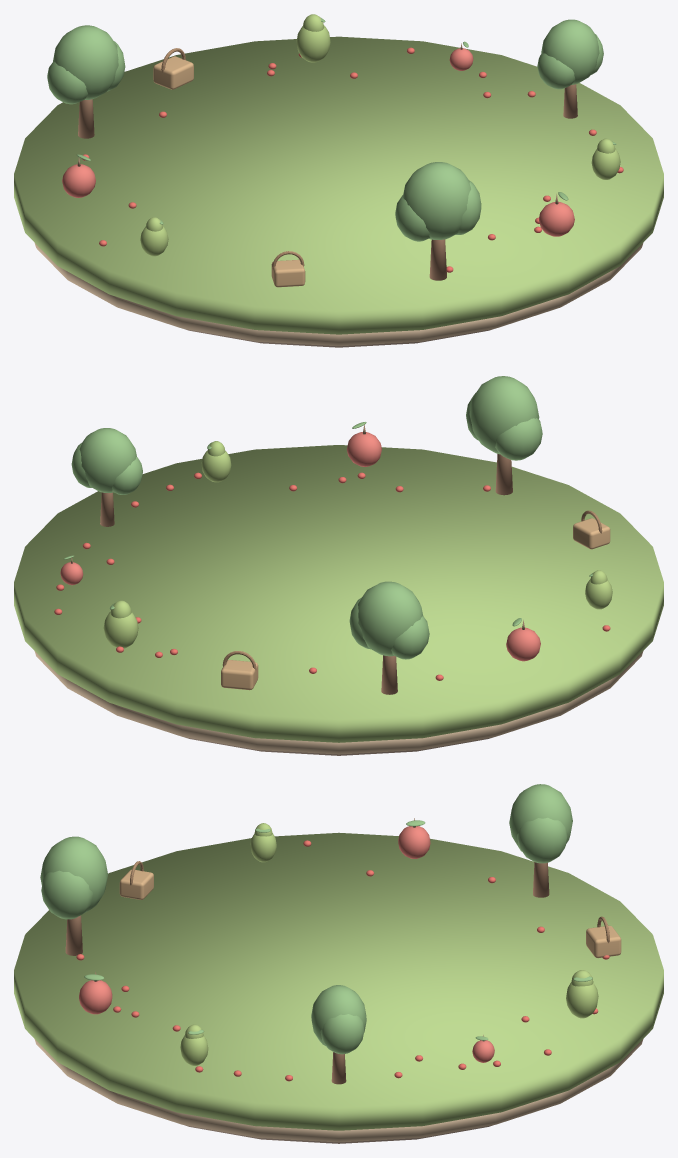
The model's file is world.glb.
3 renders of one model, top to bottom at view 1: azimuth 30°, elevation 25°; view 2: azimuth 150°, elevation 25°; view 3: azimuth 270°, elevation 25°, orthographic.
Visible parts, largest first — view 1: Cone, Cone.001, tree.003, tree.002, tree.001, pear.001, basket.001, apple.003, basket.002, apple.002, pear.003, pear.002 (+1 smaller); view 2: Cone, Cone.001, tree.003, tree.002, tree.001, pear.001, basket.001, apple.003, basket.002, apple.002, pear.003, pear.002 (+1 smaller); view 3: Cone, Cone.001, tree.003, tree.002, tree.001, pear.001, basket.001, apple.003, apple.002, basket.002, pear.003, pear.002 (+1 smaller).
Boxes of the visible parts, left/top/right/bottom form: Cone: left=14, top=36, right=663, bottom=334; Cone.001: left=34, top=242, right=643, bottom=346; tree.003: left=395, top=162, right=481, bottom=280; tree.002: left=47, top=25, right=125, bottom=138; tree.001: left=537, top=19, right=603, bottom=118; pear.001: left=296, top=14, right=330, bottom=62; basket.001: left=153, top=48, right=193, bottom=89; apple.003: left=539, top=192, right=574, bottom=236; basket.002: left=271, top=251, right=305, bottom=287; apple.002: left=62, top=154, right=95, bottom=197; pear.003: left=591, top=138, right=620, bottom=179; pear.002: left=140, top=217, right=168, bottom=256; Cone: left=14, top=445, right=663, bottom=742; Cone.001: left=34, top=651, right=643, bottom=754; tree.003: left=466, top=376, right=542, bottom=495; tree.002: left=349, top=581, right=429, bottom=694; tree.001: left=71, top=428, right=142, bottom=526; pear.001: left=103, top=600, right=138, bottom=648; basket.001: left=221, top=651, right=258, bottom=690; apple.003: left=346, top=422, right=381, bottom=466; basket.002: left=573, top=510, right=610, bottom=549; apple.002: left=506, top=618, right=540, bottom=661; pear.003: left=201, top=441, right=231, bottom=482; pear.002: left=585, top=570, right=612, bottom=609; Cone: left=14, top=832, right=663, bottom=1130; Cone.001: left=34, top=1039, right=643, bottom=1142; tree.003: left=40, top=836, right=107, bottom=955; tree.002: left=509, top=784, right=572, bottom=897; tree.001: left=311, top=985, right=366, bottom=1084; pear.001: left=566, top=970, right=598, bottom=1018; basket.001: left=586, top=916, right=621, bottom=958; apple.003: left=79, top=972, right=112, bottom=1014; apple.002: left=398, top=818, right=430, bottom=858; basket.002: left=119, top=861, right=153, bottom=899; pear.003: left=180, top=1024, right=208, bottom=1065; pear.002: left=250, top=823, right=276, bottom=862.
Size of the model in its own units: 9.6 by 2.63 by 9.6.
